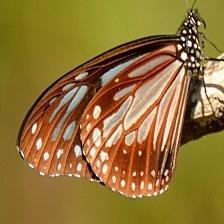butterfly: (18, 10, 205, 198)
